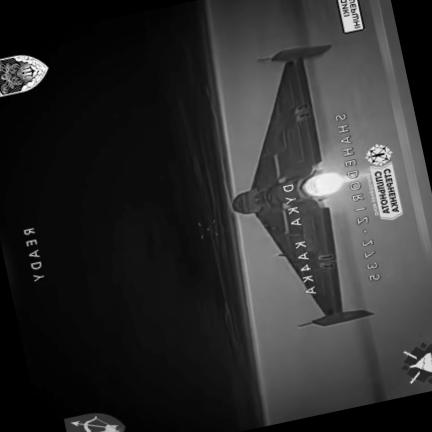Shahed: (232, 45, 373, 327)
